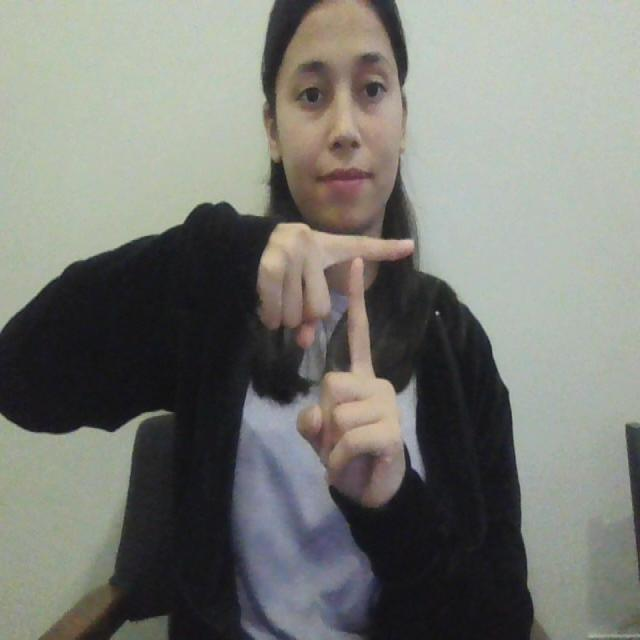Tesekkurler: (309, 222, 418, 398)
